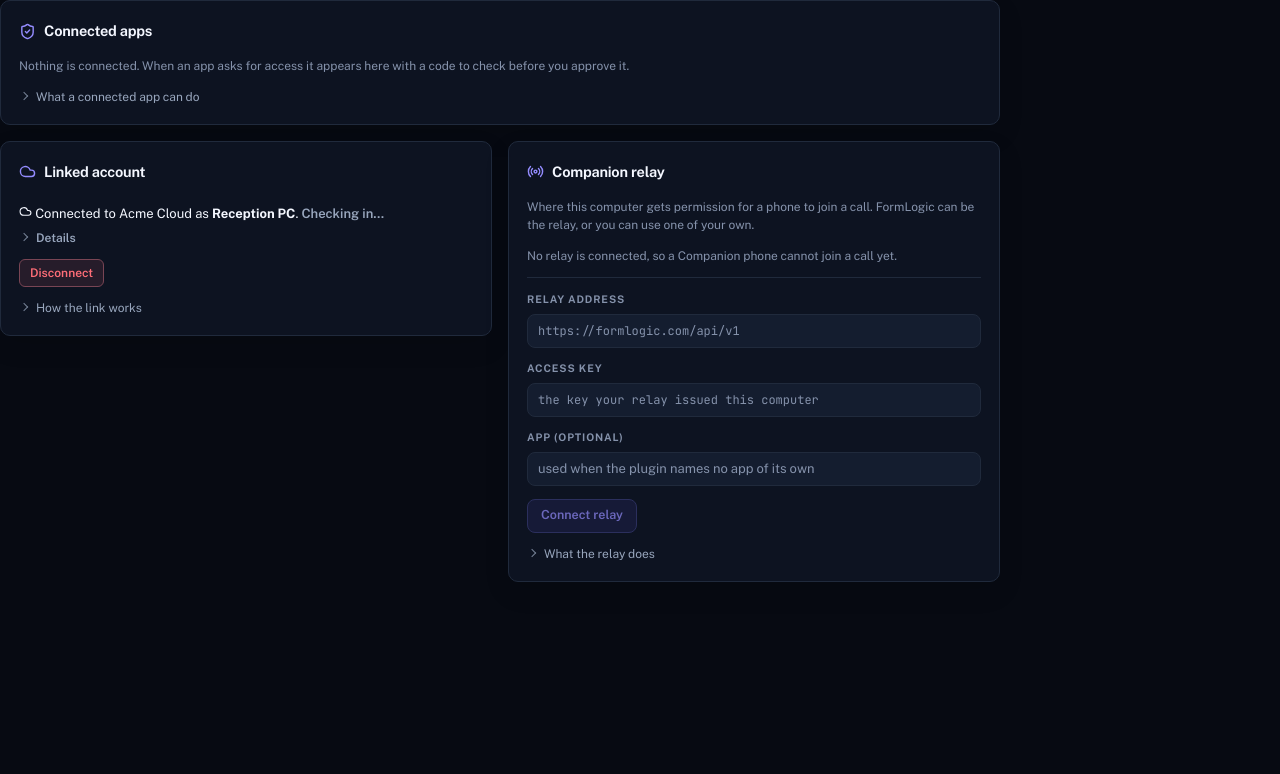
ConnectionsPanel · Linked account › says so, and offers Remove copies, when the link was forgotten and a copy of its key could not be removed
This screenshot has width=1280, height=774.
Click the button "Disconnect": x=62, y=273 [19, 259, 104, 287]
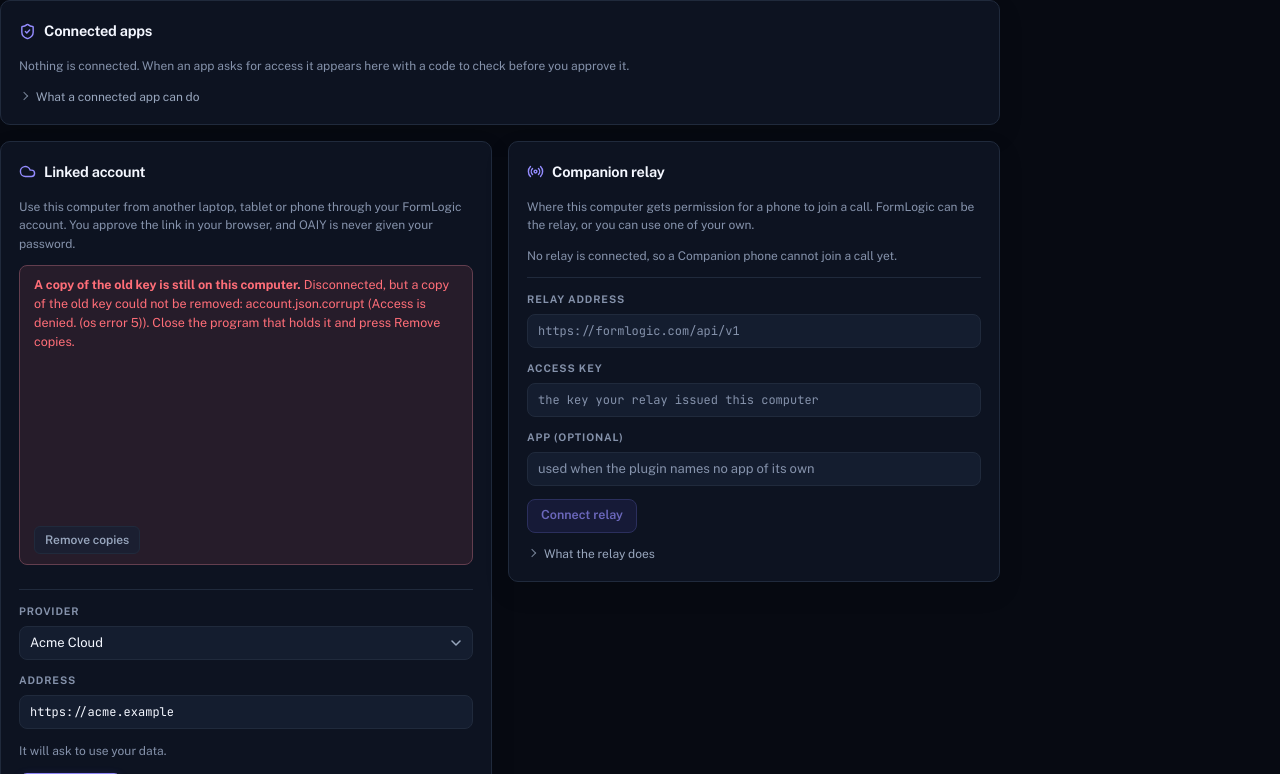
Expected: the number of messages is 1, [19, 265, 473, 565]
Expected: the message shows "a copy of the old key could not be removed: account.json.corrupt", [34, 277, 449, 349]
Expected: the text "Reception PC" is gone
